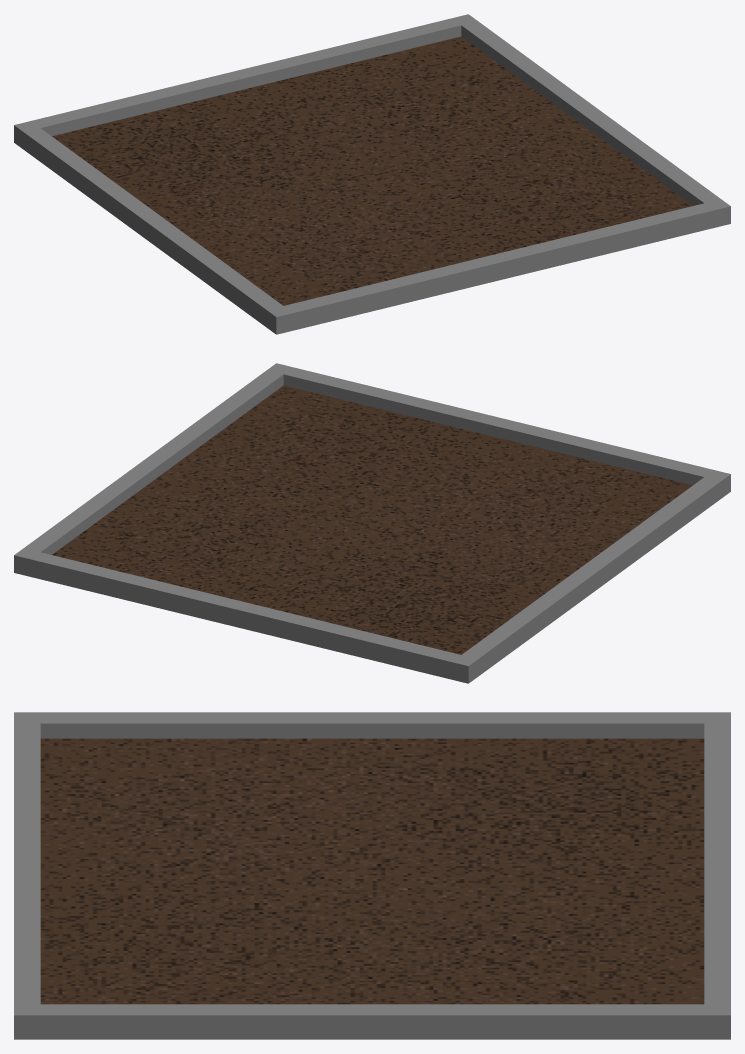
The model's file is MapV3.fbx.
The picture shows the model from 3 angles, top to bottom: view 1: azimuth 30°, elevation 25°; view 2: azimuth 150°, elevation 25°; view 3: azimuth 270°, elevation 25°; orthographic projection. The views are drawn at different scales.
Parts seen in each view (by area): view 1: Ground, BottomWall, TopWall, LeftWall, RightWall; view 2: Ground, TopWall, BottomWall, LeftWall, RightWall; view 3: Ground, RightWall, LeftWall, TopWall, BottomWall.
Part boxes in pixels (left/top/right/bottom): Ground: left=52, top=36, right=692, bottom=305; BottomWall: left=266, top=199, right=730, bottom=334; TopWall: left=14, top=14, right=477, bottom=149; LeftWall: left=23, top=128, right=282, bottom=327; RightWall: left=461, top=21, right=720, bottom=205; Ground: left=52, top=385, right=692, bottom=654; TopWall: left=14, top=548, right=478, bottom=683; BottomWall: left=267, top=363, right=730, bottom=498; LeftWall: left=462, top=477, right=721, bottom=676; RightWall: left=24, top=370, right=283, bottom=554; Ground: left=40, top=738, right=704, bottom=1004; RightWall: left=40, top=1004, right=704, bottom=1039; LeftWall: left=40, top=712, right=704, bottom=738; TopWall: left=704, top=712, right=730, bottom=1039; BottomWall: left=14, top=712, right=40, bottom=1039.
Size of the model in its own units: 8100 by 300 by 8100.
2 materials, 1 textured.
